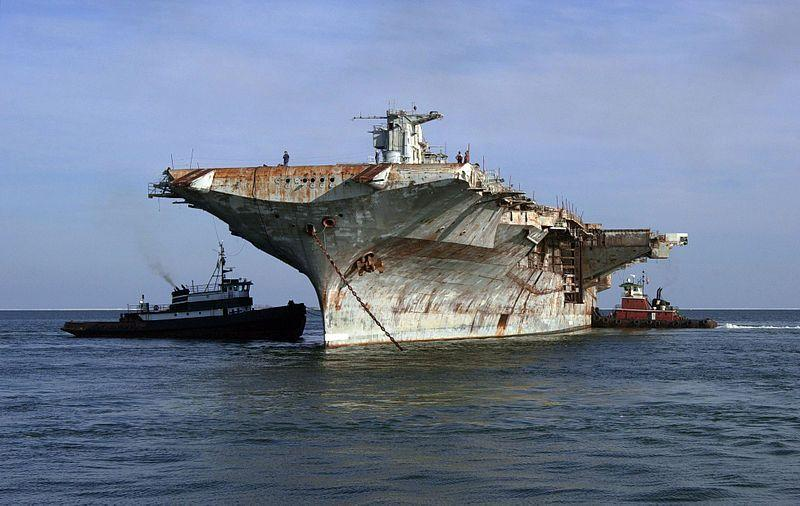rust: (176, 167, 370, 196), (408, 240, 490, 271), (355, 253, 390, 277), (495, 309, 516, 336)
